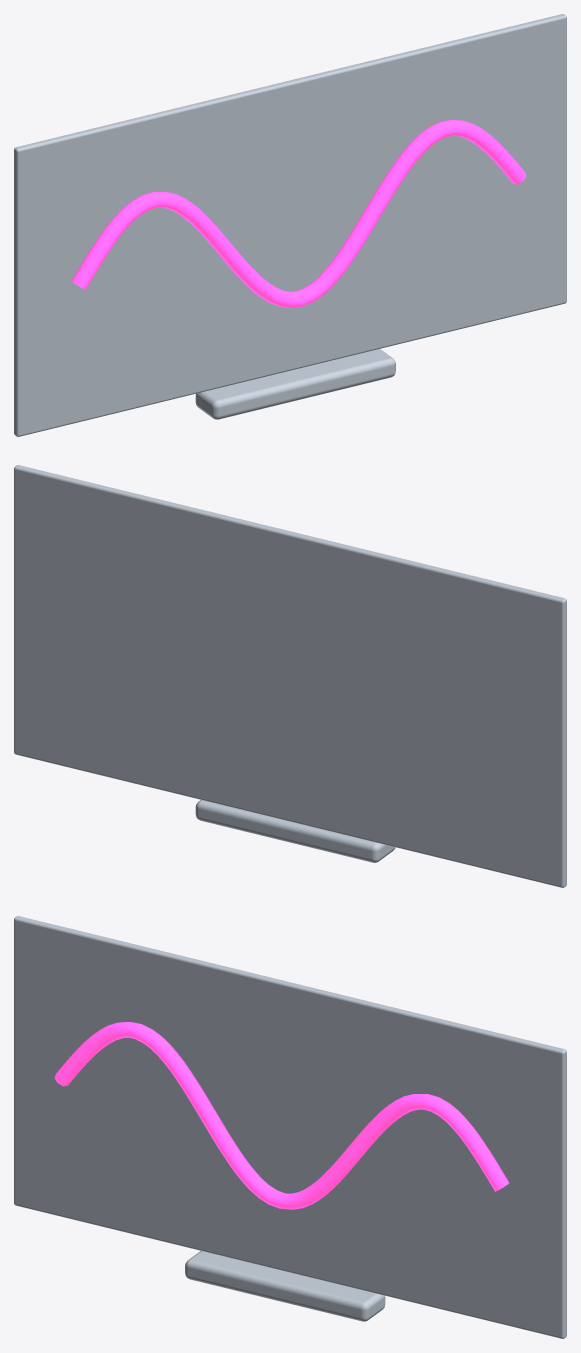
The model's file is neon.sign.wave.2992ab0435.glb.
3 renders of one model, top to bottom at view 1: azimuth 30°, elevation 25°; view 2: azimuth 150°, elevation 25°; view 3: azimuth 330°, elevation 25°, orthographic.
Visible parts, largest first — view 1: backing, glow; view 2: backing; view 3: backing, glow.
Boxes of the visible parts, box(x1,y1,x2,y2) form: backing: box(14, 14, 566, 436); glow: box(71, 120, 526, 307); backing: box(14, 465, 566, 887); backing: box(14, 916, 566, 1338); glow: box(54, 1022, 509, 1209).
Bounding box in the file's own units: 0.6 × 0.32 × 0.04.
